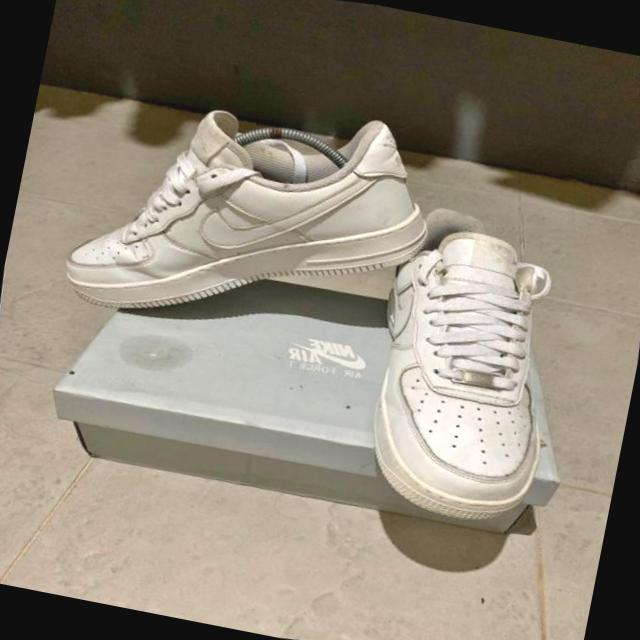nike_original_airforce: (38, 68, 470, 378), (330, 185, 596, 539)
